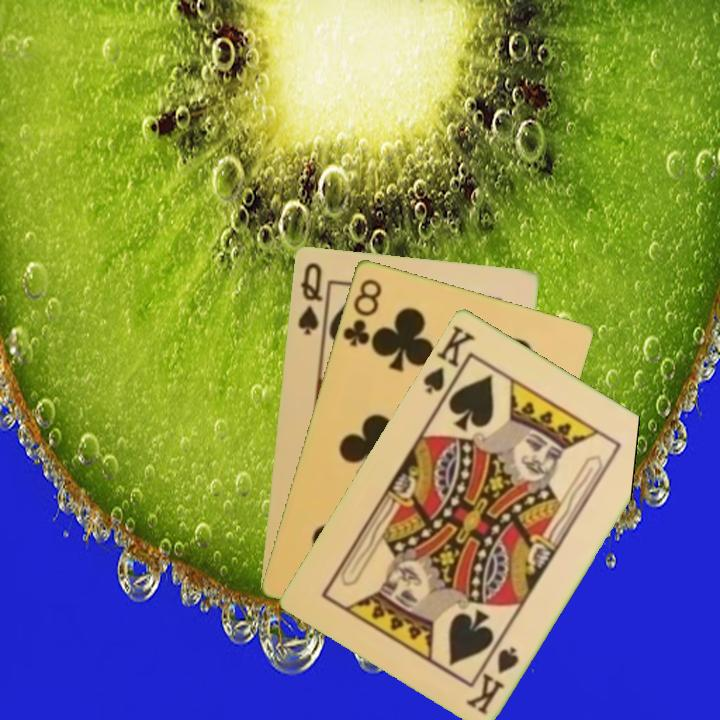8c: (339, 274, 384, 349)
Ks: (462, 642, 522, 717), (419, 321, 478, 396)
Qs: (294, 258, 325, 337)
